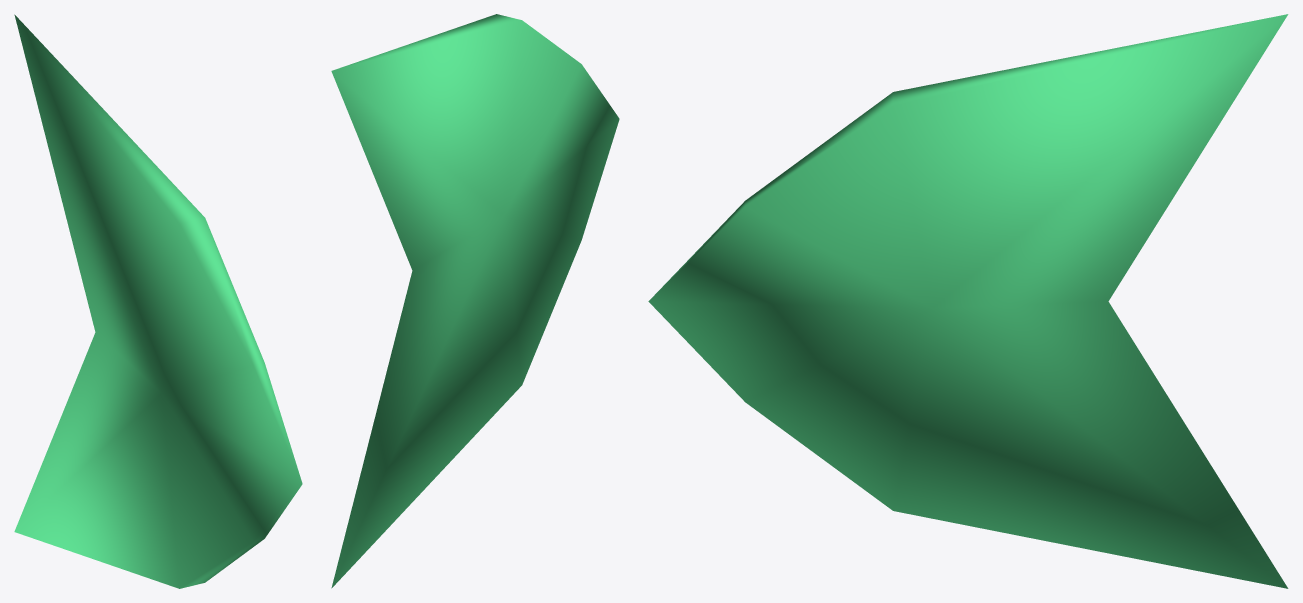
Rendered from caudal-fin-01.obj.
3 renders of one model, left to right at view 1: azimuth 30°, elevation 25°; view 2: azimuth 150°, elevation 25°; view 3: azimuth 270°, elevation 25°, orthographic. The views are drawn at different scales.
Visible parts, largest first — view 1: caudal001; view 2: caudal001; view 3: caudal001.
Boxes of the visible parts, bbox=[...] form: caudal001: bbox=[14, 14, 302, 588]; caudal001: bbox=[331, 14, 619, 588]; caudal001: bbox=[648, 14, 1288, 588].
Size of the model in its own units: 0.4178 by 8.08 by 8.16.
